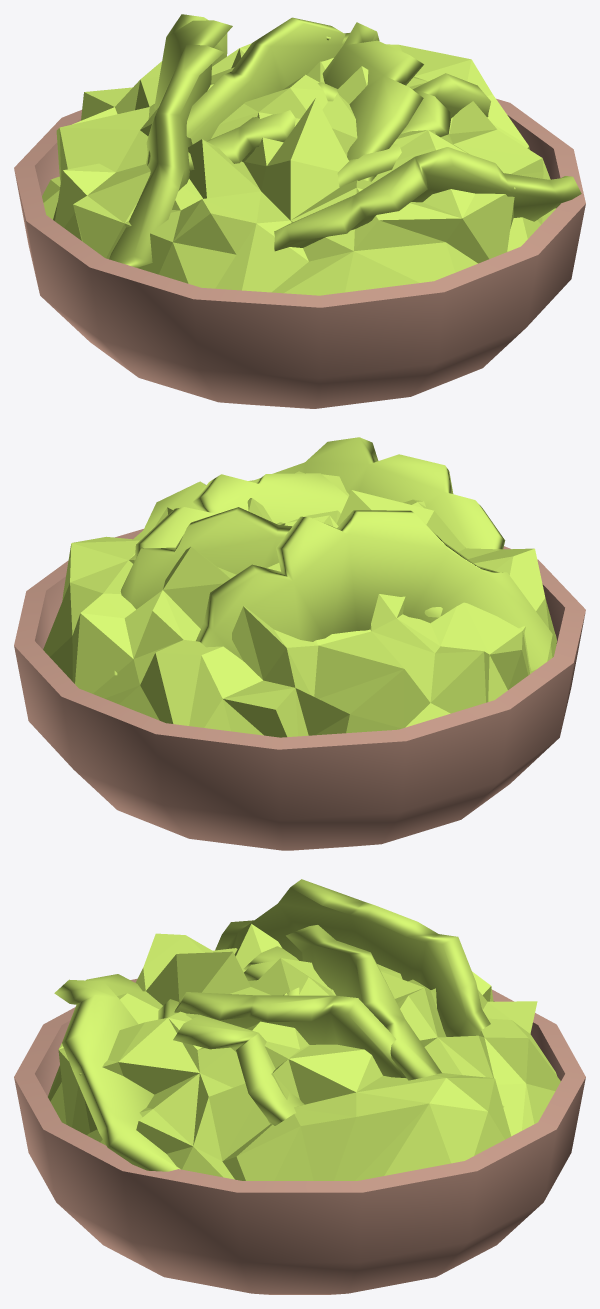
File: Bowl_Vege_geo.fbx
3 renders of one model, top to bottom at view 1: azimuth 30°, elevation 25°; view 2: azimuth 150°, elevation 25°; view 3: azimuth 270°, elevation 25°, orthographic.
Visible parts, largest first — view 1: Bowl_Vege_geo; view 2: Bowl_Vege_geo; view 3: Bowl_Vege_geo.
Boxes of the visible parts, x1,y1,x2,y2 form: Bowl_Vege_geo: (14,14,585,408); Bowl_Vege_geo: (14,437,585,850); Bowl_Vege_geo: (14,879,585,1294).
Bounding box in the file's own units: 0.6251 × 0.6467 × 0.3992.
